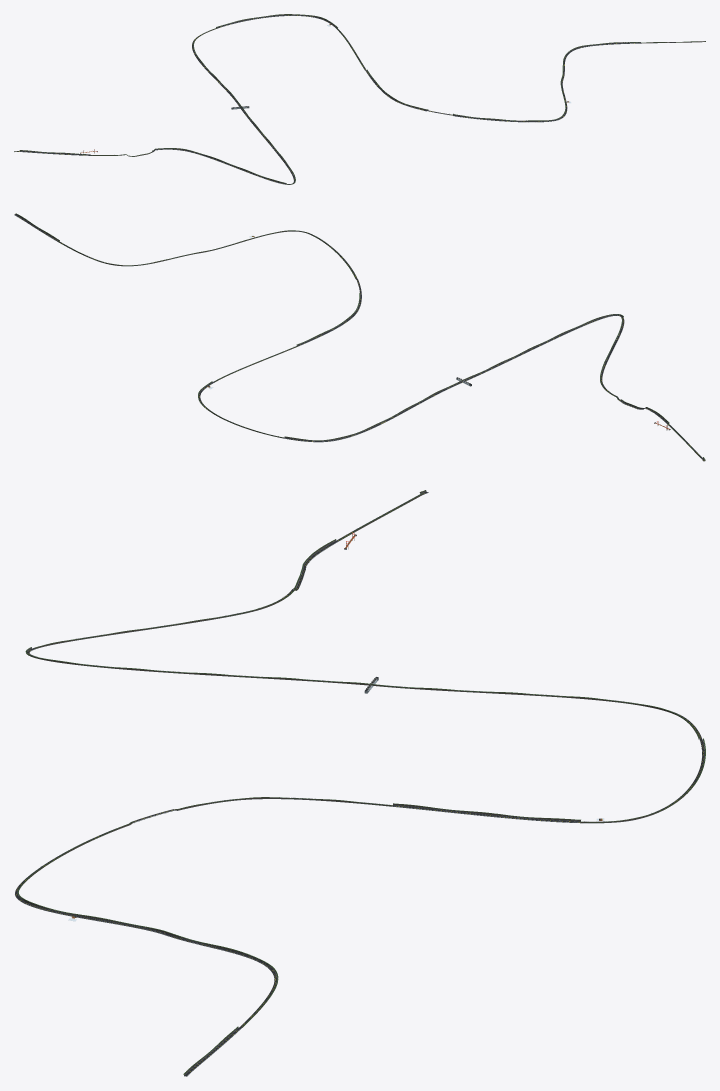
Rendered from cau_treo_suoi_vang_dap_dankia_dt722.glb.
3 views of the same model, one above another, from view 1: azimuth 30°, elevation 25°; view 2: azimuth 150°, elevation 25°; view 3: azimuth 270°, elevation 25° (orthographic). The views are drawn at different scales.
Visible parts, largest first — view 1: DT722_Split_Granite_Taluy_And_Ankroet_Arch, DT722_Asphalt_Carriageway, DT722_SuoiVang_Basalt_Rock_Cliffs, DT722_Pine_Forest_Moss_Benches; view 2: DT722_Asphalt_Carriageway, DT722_SuoiVang_Basalt_Rock_Cliffs, DT722_Split_Granite_Taluy_And_Ankroet_Arch, DT722_Pine_Forest_Moss_Benches; view 3: DT722_SuoiVang_Basalt_Rock_Cliffs, DT722_Split_Granite_Taluy_And_Ankroet_Arch, DT722_Pine_Forest_Moss_Benches, DT722_Asphalt_Carriageway.
Boxes of the visible parts, x1,y1,x2,y2 form: DT722_Split_Granite_Taluy_And_Ankroet_Arch: [19, 14, 701, 184]; DT722_Asphalt_Carriageway: [20, 15, 675, 184]; DT722_SuoiVang_Basalt_Rock_Cliffs: [14, 14, 705, 184]; DT722_Pine_Forest_Moss_Benches: [14, 14, 705, 184]; DT722_Asphalt_Carriageway: [14, 214, 704, 461]; DT722_SuoiVang_Basalt_Rock_Cliffs: [15, 213, 704, 459]; DT722_Split_Granite_Taluy_And_Ankroet_Arch: [14, 214, 705, 460]; DT722_Pine_Forest_Moss_Benches: [16, 213, 705, 460]; DT722_SuoiVang_Basalt_Rock_Cliffs: [18, 490, 705, 1074]; DT722_Split_Granite_Taluy_And_Ankroet_Arch: [15, 491, 704, 1076]; DT722_Pine_Forest_Moss_Benches: [18, 490, 705, 1074]; DT722_Asphalt_Carriageway: [15, 491, 704, 1076].
Size of the model in its own units: 6810 by 92.89 by 3371.
